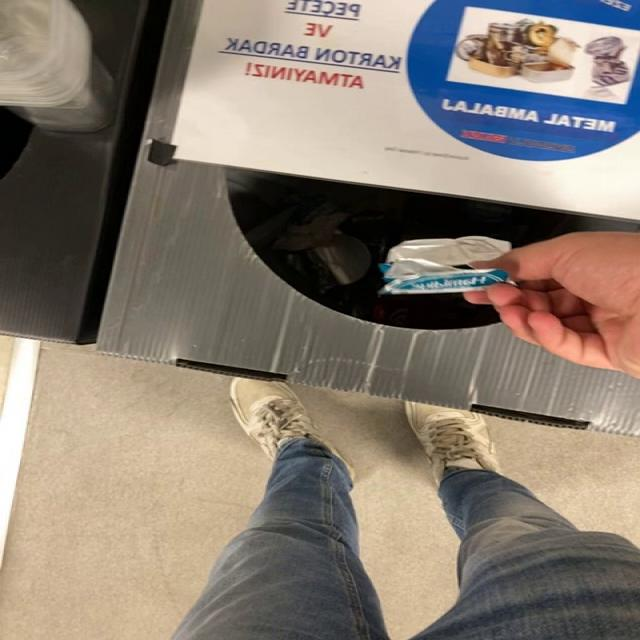bin: (97, 0, 640, 436)
metal: (379, 236, 512, 294), (379, 236, 511, 294)
